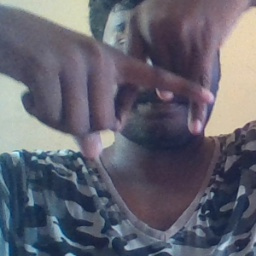H: (102, 20, 222, 144)
